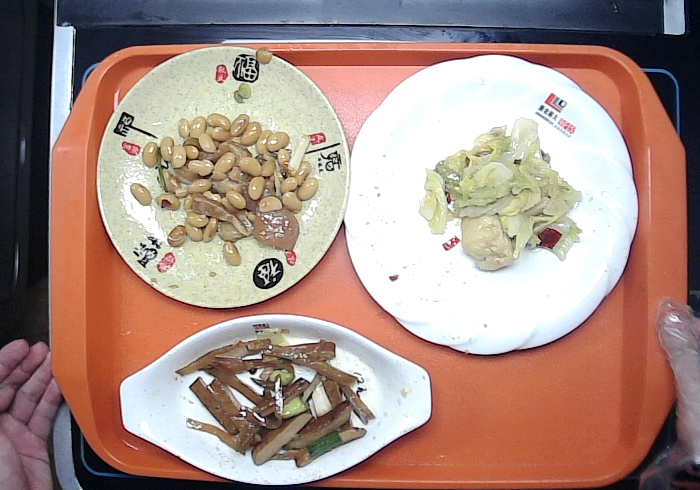NLDX-Bai_Zhe_Yuan_Pan: (335, 50, 640, 359)
NLDX-Fu_Zi_Yuan_Pan: (88, 37, 358, 315)
NLDX-Yu_Pan: (114, 307, 437, 490)
